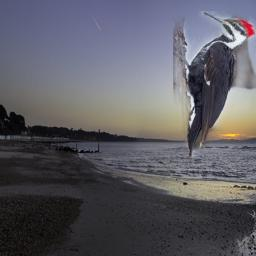Woodpecker: (173, 11, 256, 157)
